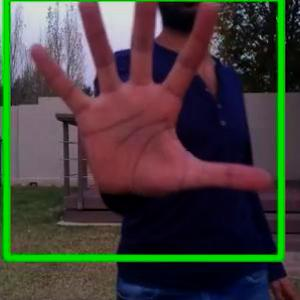follow_hand: (24, 0, 276, 209)
